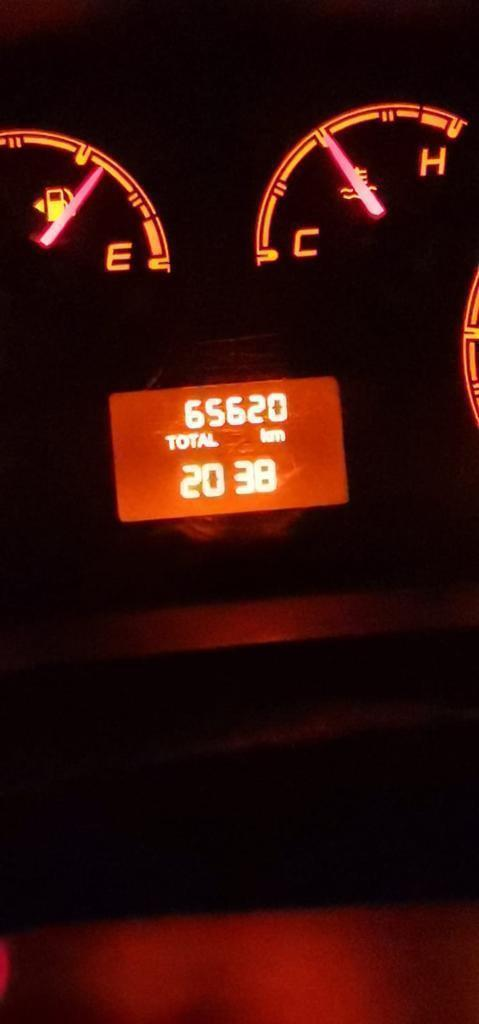0: (201, 461, 226, 497), (267, 391, 288, 421)
2: (178, 462, 201, 499), (246, 393, 267, 423)
3: (232, 457, 255, 495)
5: (205, 396, 224, 428)
6: (183, 398, 204, 429), (225, 395, 246, 425)
8: (254, 457, 279, 493)
X: (270, 428, 287, 445), (163, 432, 175, 452), (206, 431, 219, 448), (259, 426, 270, 445), (176, 432, 188, 449), (189, 431, 198, 449), (198, 432, 206, 449)
odometer: (99, 367, 359, 533)
